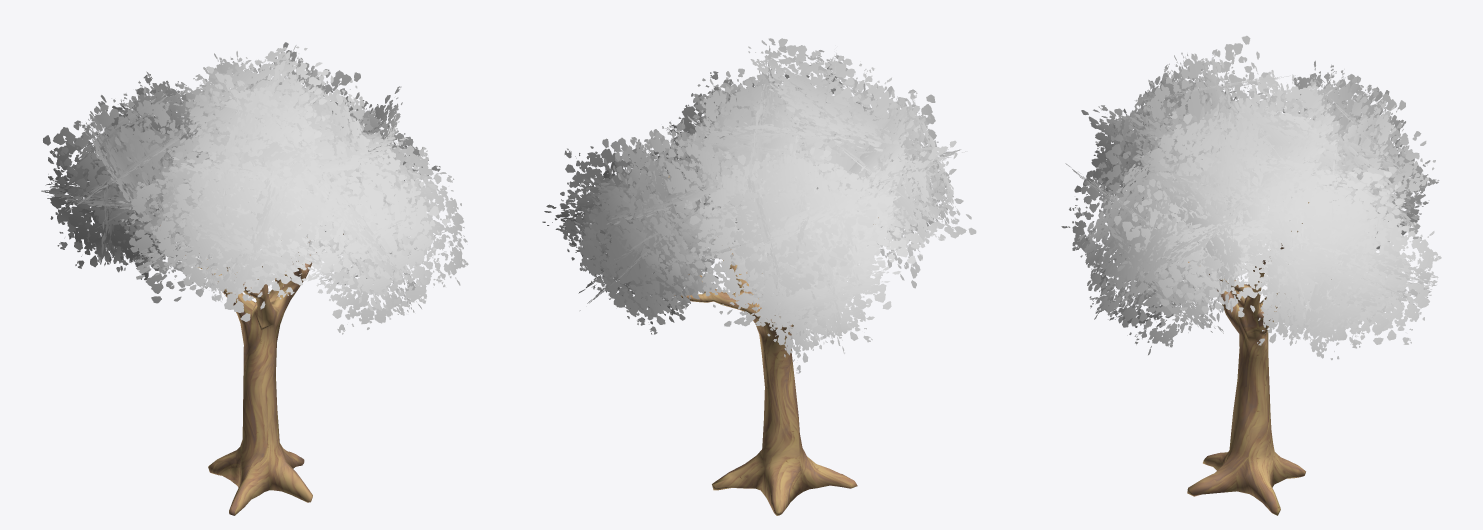
Rendered from SM_ENV_tree_ancient_01.fbx.
3 views of the same model, side by side, from view 1: azimuth 30°, elevation 25°; view 2: azimuth 150°, elevation 25°; view 3: azimuth 270°, elevation 25° (orthographic).
Parts seen in each view (by area): view 1: SM_ENV_tree_ancient_01_LOD0; view 2: SM_ENV_tree_ancient_01_LOD0; view 3: SM_ENV_tree_ancient_01_LOD0.
Part boxes in pixels (x1,y1,x2,y2): SM_ENV_tree_ancient_01_LOD0: [41, 42, 468, 515]; SM_ENV_tree_ancient_01_LOD0: [542, 38, 976, 515]; SM_ENV_tree_ancient_01_LOD0: [1061, 35, 1441, 515].
Size of what is drawn, in the model's own units: 805 by 864 by 750.
